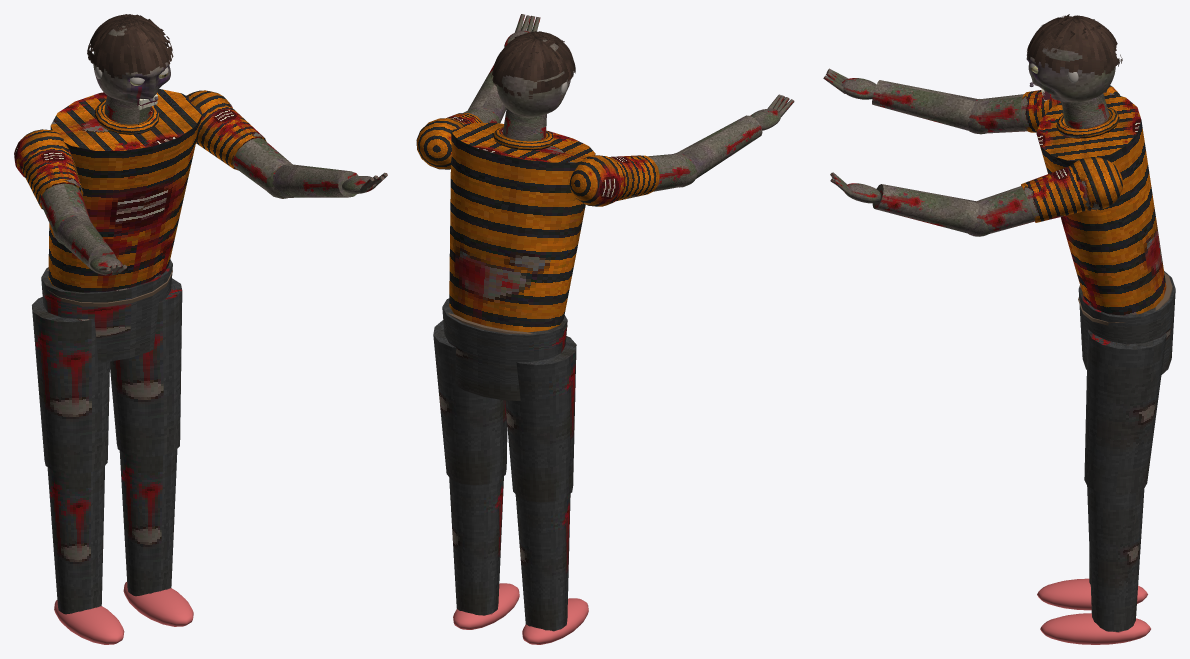
Rendered from Zombie_137.glb.
The picture shows the model from 3 angles, left to right: view 1: azimuth 30°, elevation 25°; view 2: azimuth 150°, elevation 25°; view 3: azimuth 270°, elevation 25°; orthographic projection. The views are drawn at different scales.
Parts seen in each view (by area): view 1: Zombie_137, object 43, object 10, object 16, object 3; view 2: Zombie_137, object 43, object 3, object 16, object 10; view 3: Zombie_137, object 43, object 10, object 3, object 16, object 4, object 11.
Boxes of the visible parts, x1=… form: Zombie_137: x1=14, y1=89, x2=292, y2=644; object 43: x1=87, y1=14, x2=173, y2=76; object 10: x1=272, y1=164, x2=358, y2=197; object 16: x1=93, y1=26, x2=170, y2=104; object 3: x1=57, y1=215, x2=116, y2=272; Zombie_137: x1=416, y1=107, x2=690, y2=644; object 43: x1=491, y1=31, x2=575, y2=96; object 3: x1=677, y1=115, x2=762, y2=178; object 16: x1=497, y1=39, x2=570, y2=116; object 10: x1=468, y1=64, x2=506, y2=122; Zombie_137: x1=976, y1=85, x2=1175, y2=644; object 43: x1=1027, y1=15, x2=1122, y2=72; object 10: x1=872, y1=184, x2=979, y2=233; object 3: x1=872, y1=80, x2=976, y2=130; object 16: x1=1026, y1=47, x2=1115, y2=103; object 4: x1=841, y1=78, x2=876, y2=99; object 11: x1=844, y1=183, x2=880, y2=203.
Size of the model in its own units: 0.8026 by 1.65 by 0.8752.
Materials: 16 (6 with a texture image).
